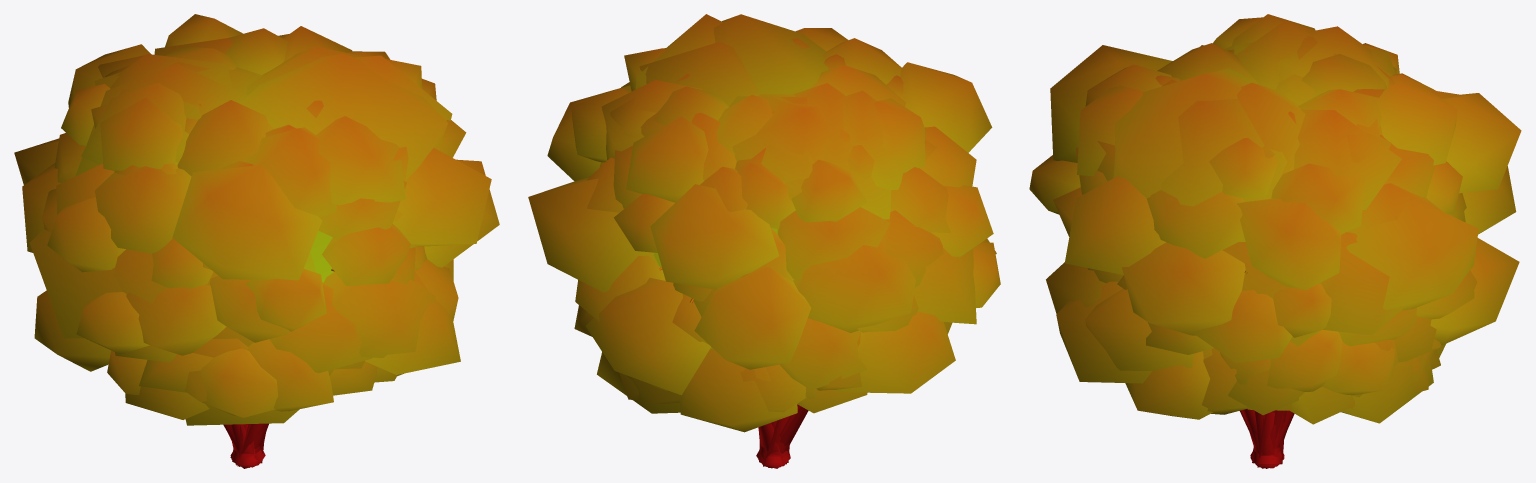
Rendered from olive.glb.
3 views of the same model, side by side, from view 1: azimuth 30°, elevation 25°; view 2: azimuth 150°, elevation 25°; view 3: azimuth 270°, elevation 25° (orthographic). The views are drawn at different scales.
Visible parts, largest first — view 1: v2, v0, v3, v2_far, v4, v1, v1_far, v0_far, v3_far, v4_far, v5_far; view 2: v2, v0, v3, v4, v2_far, v1, v0_far, v3_far, v1_far, v4_far, v5_far, v5; view 3: v2, v4, v0, v3, v2_far, v4_far, v1, v3_far, v0_far, v1_far, v5_far, v5.
Boxes of the visible parts, x1,y1,x2,y2 form: v2: (14,14,491,466); v0: (22,26,458,468); v3: (42,34,466,443); v2_far: (29,53,447,466); v4: (154,38,499,467); v1: (54,89,415,467); v1_far: (75,64,299,465); v0_far: (113,46,364,467); v3_far: (110,54,253,450); v4_far: (237,55,452,466); v5_far: (94,57,263,93); v2: (528,28,1000,467); v0: (586,38,996,468); v3: (610,38,976,445); v4: (547,48,905,467); v2_far: (597,14,976,458); v1: (599,54,952,468); v0_far: (637,41,790,466); v3_far: (732,94,847,444); v1_far: (767,83,891,464); v4_far: (635,14,788,466); v5_far: (729,96,814,452); v5: (640,112,815,466); v2: (1029,14,1521,467); v4: (1046,43,1477,468); v0: (1053,79,1463,468); v3: (1085,17,1462,439); v2_far: (1113,68,1433,467); v4_far: (1161,99,1353,464); v1: (1075,66,1465,468); v3_far: (1222,26,1396,423); v0_far: (1237,82,1440,464); v1_far: (1236,21,1320,454); v5_far: (1275,35,1395,105); v5: (1117,49,1466,466).
Bounding box in the file's own units: 12.04 × 11.71 × 12.32.
